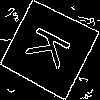K: (24, 24, 81, 76)
